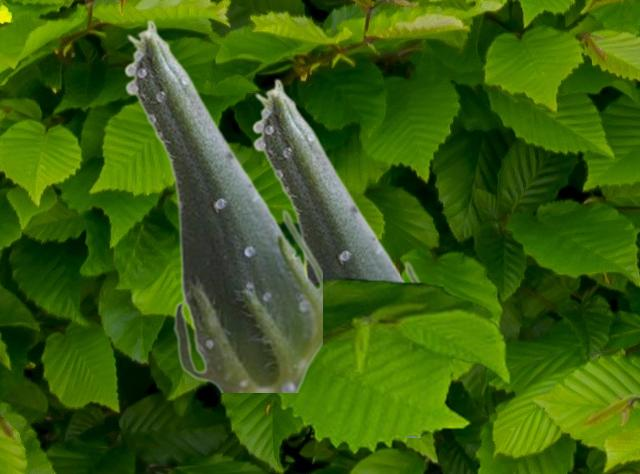okra: (123, 19, 321, 391), (251, 78, 421, 282)
